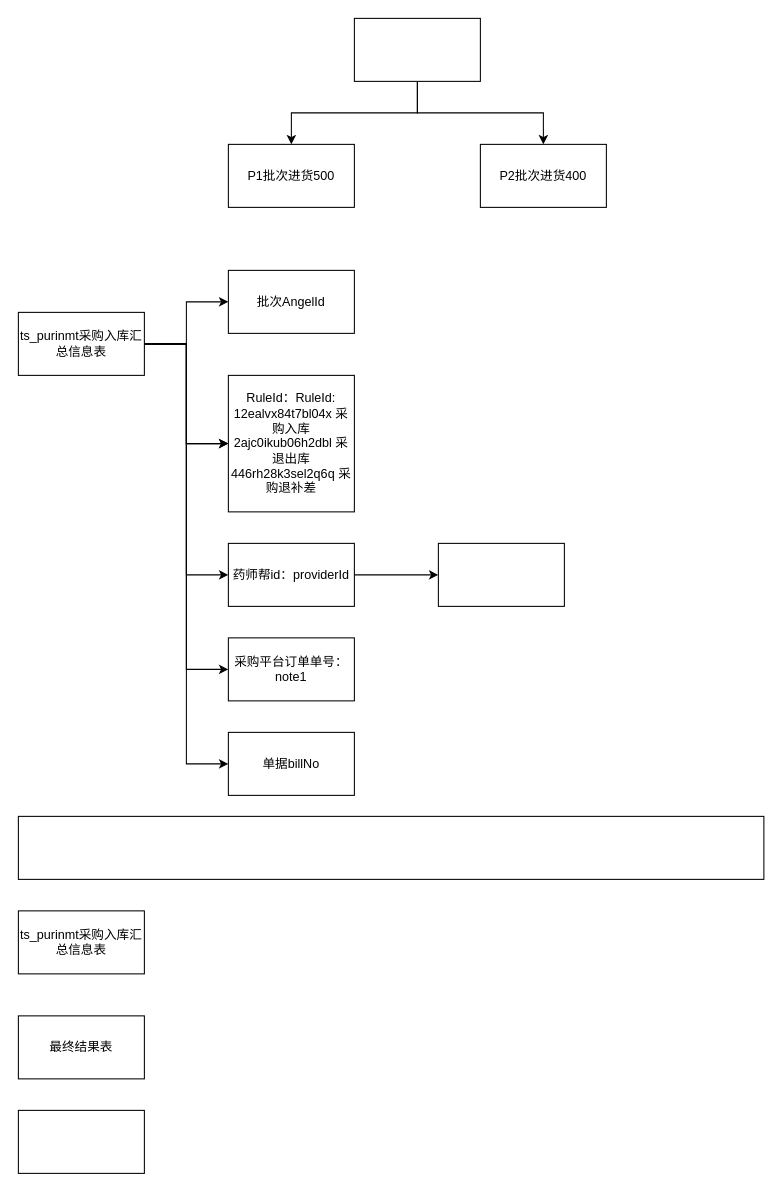
This 782x1192 diagram has some shape labels left out. The box of each missing label's shape, as (x1, y1, x2, y2) in pixels:
ts_purinmt与 ts_purindt通过billNo+providerId进行关联: (17, 815, 764, 879)
东健向上游供应商采购入库: (353, 17, 480, 81)
调拨子公司：这里是东健: (437, 542, 564, 606)
